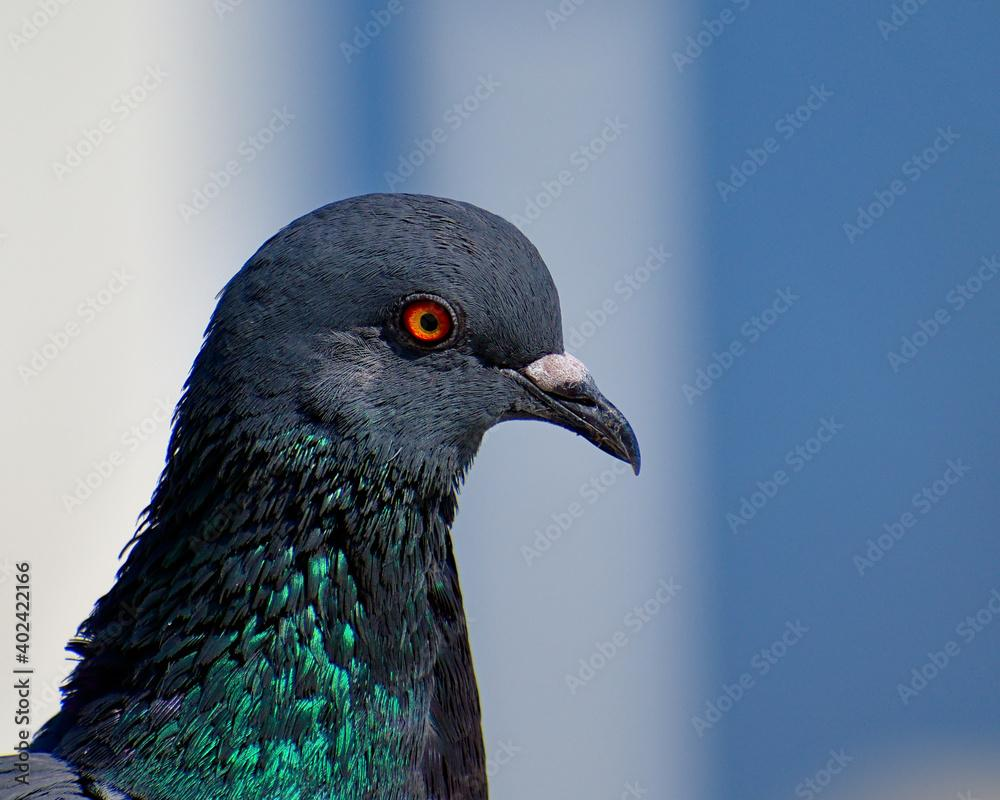Flying Rat: (1, 185, 651, 800)
